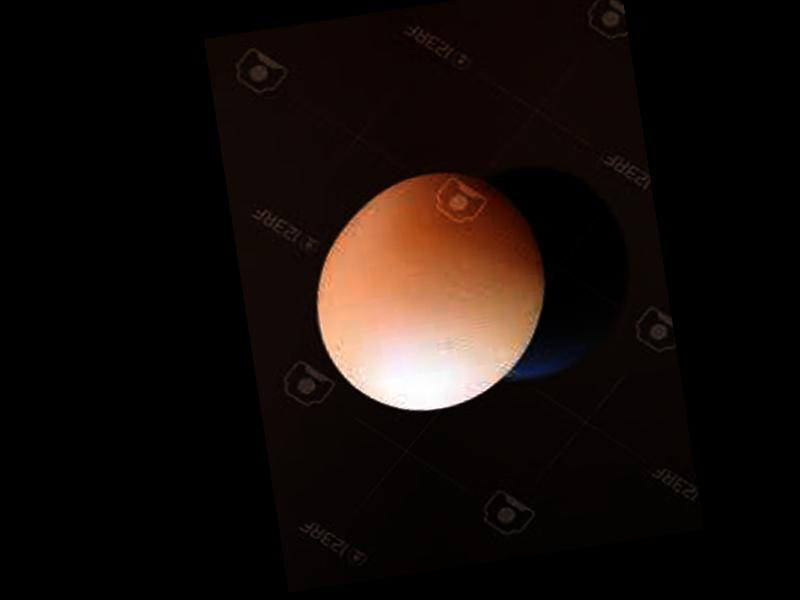Eggs: (297, 159, 564, 426)
